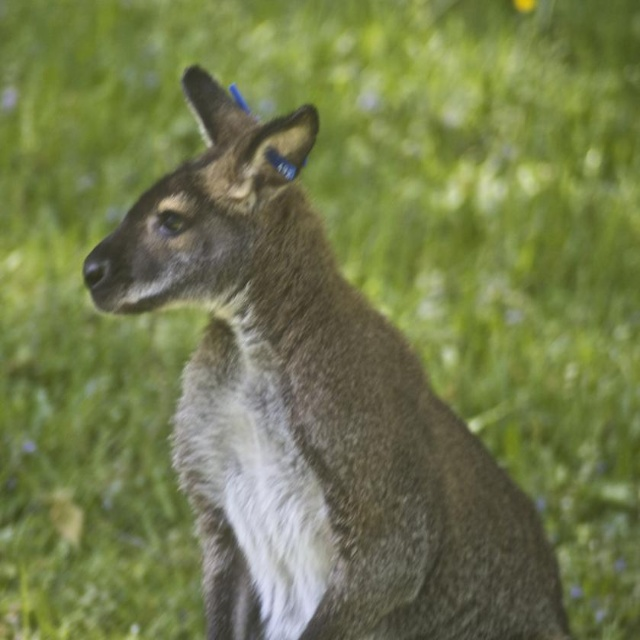Kangaroo: (82, 70, 573, 640)
